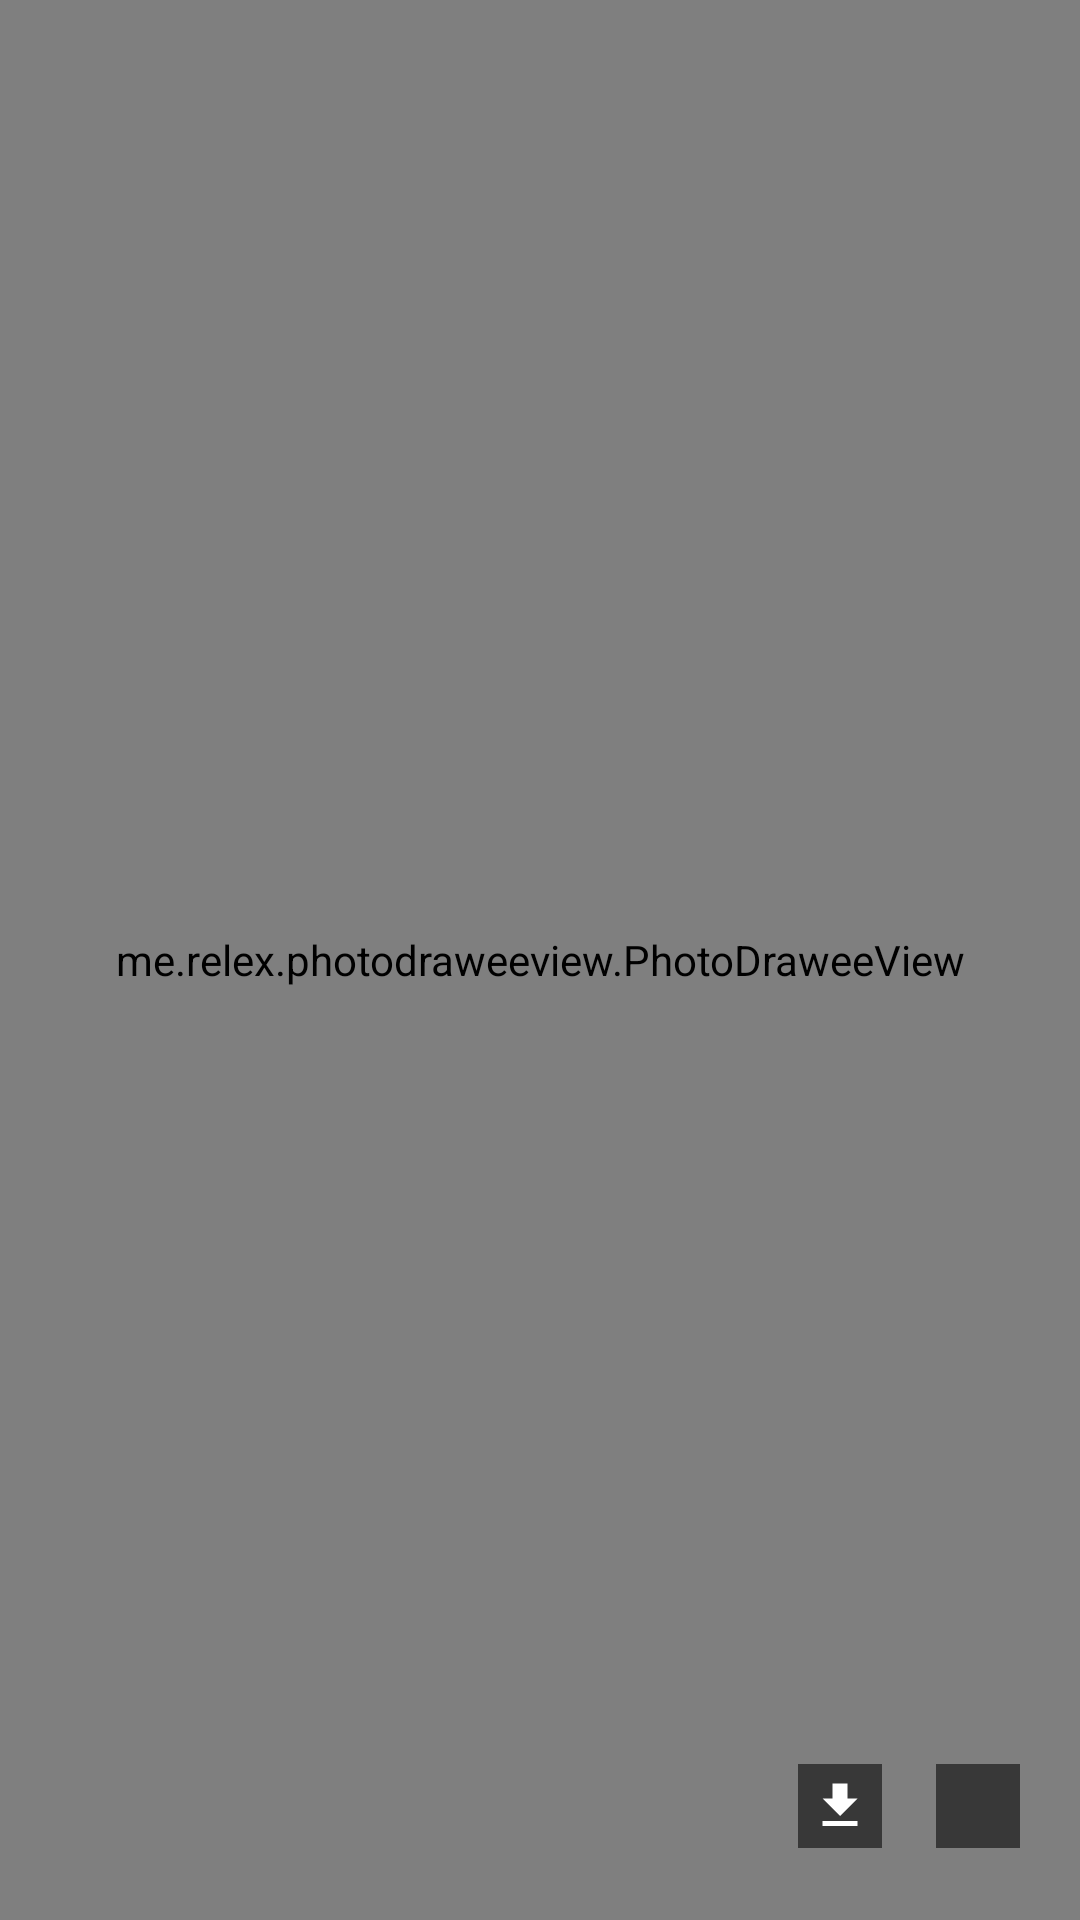

Screen size 1080w x 1920h. Icon name, then its center in pixels as [x,y]:
download: [840,1806]
